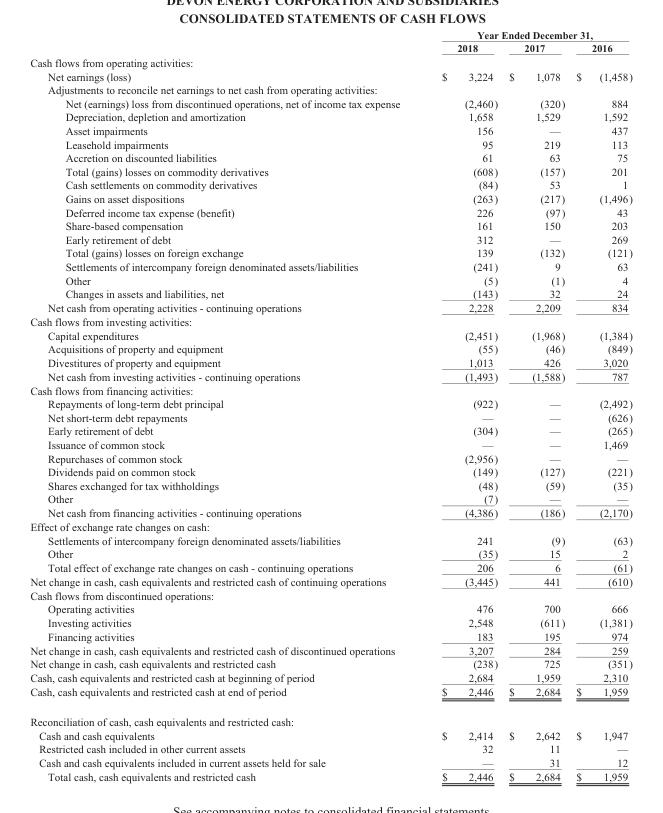table: (29, 28, 632, 782)
table column: (29, 28, 420, 782), (420, 28, 502, 782), (502, 28, 569, 782), (569, 28, 632, 782)
table column header: (29, 28, 632, 54)
table projected row header: (29, 706, 632, 728), (29, 54, 632, 69), (29, 82, 632, 96), (29, 314, 632, 328), (29, 382, 632, 396), (29, 519, 632, 533), (29, 588, 632, 601)
table row: (29, 684, 632, 706), (29, 706, 632, 728), (29, 54, 632, 69), (29, 40, 632, 54), (29, 82, 632, 96), (29, 109, 632, 123), (29, 123, 632, 137), (29, 150, 632, 164), (29, 177, 632, 191), (29, 191, 632, 205), (29, 218, 632, 232), (29, 245, 632, 259), (29, 259, 632, 273), (29, 286, 632, 300), (29, 300, 632, 314), (29, 314, 632, 328), (29, 341, 632, 355), (29, 355, 632, 369), (29, 382, 632, 396), (29, 396, 632, 410), (29, 423, 632, 437), (29, 437, 632, 451), (29, 464, 632, 478), (29, 491, 632, 505), (29, 505, 632, 519), (29, 519, 632, 533), (29, 546, 632, 560), (29, 560, 632, 574), (29, 574, 632, 588), (29, 601, 632, 615), (29, 615, 632, 629), (29, 642, 632, 656), (29, 656, 632, 670), (29, 670, 632, 684), (29, 741, 632, 755), (29, 755, 632, 769), (29, 69, 632, 82), (29, 96, 632, 109), (29, 137, 632, 150), (29, 164, 632, 177), (29, 205, 632, 218), (29, 232, 632, 245), (29, 273, 632, 286), (29, 328, 632, 341), (29, 369, 632, 382), (29, 410, 632, 423), (29, 451, 632, 464), (29, 478, 632, 491), (29, 533, 632, 546), (29, 588, 632, 601), (29, 629, 632, 642), (29, 728, 632, 741), (29, 769, 632, 782), (29, 28, 632, 40)
table spanning cell: (420, 28, 632, 40)
